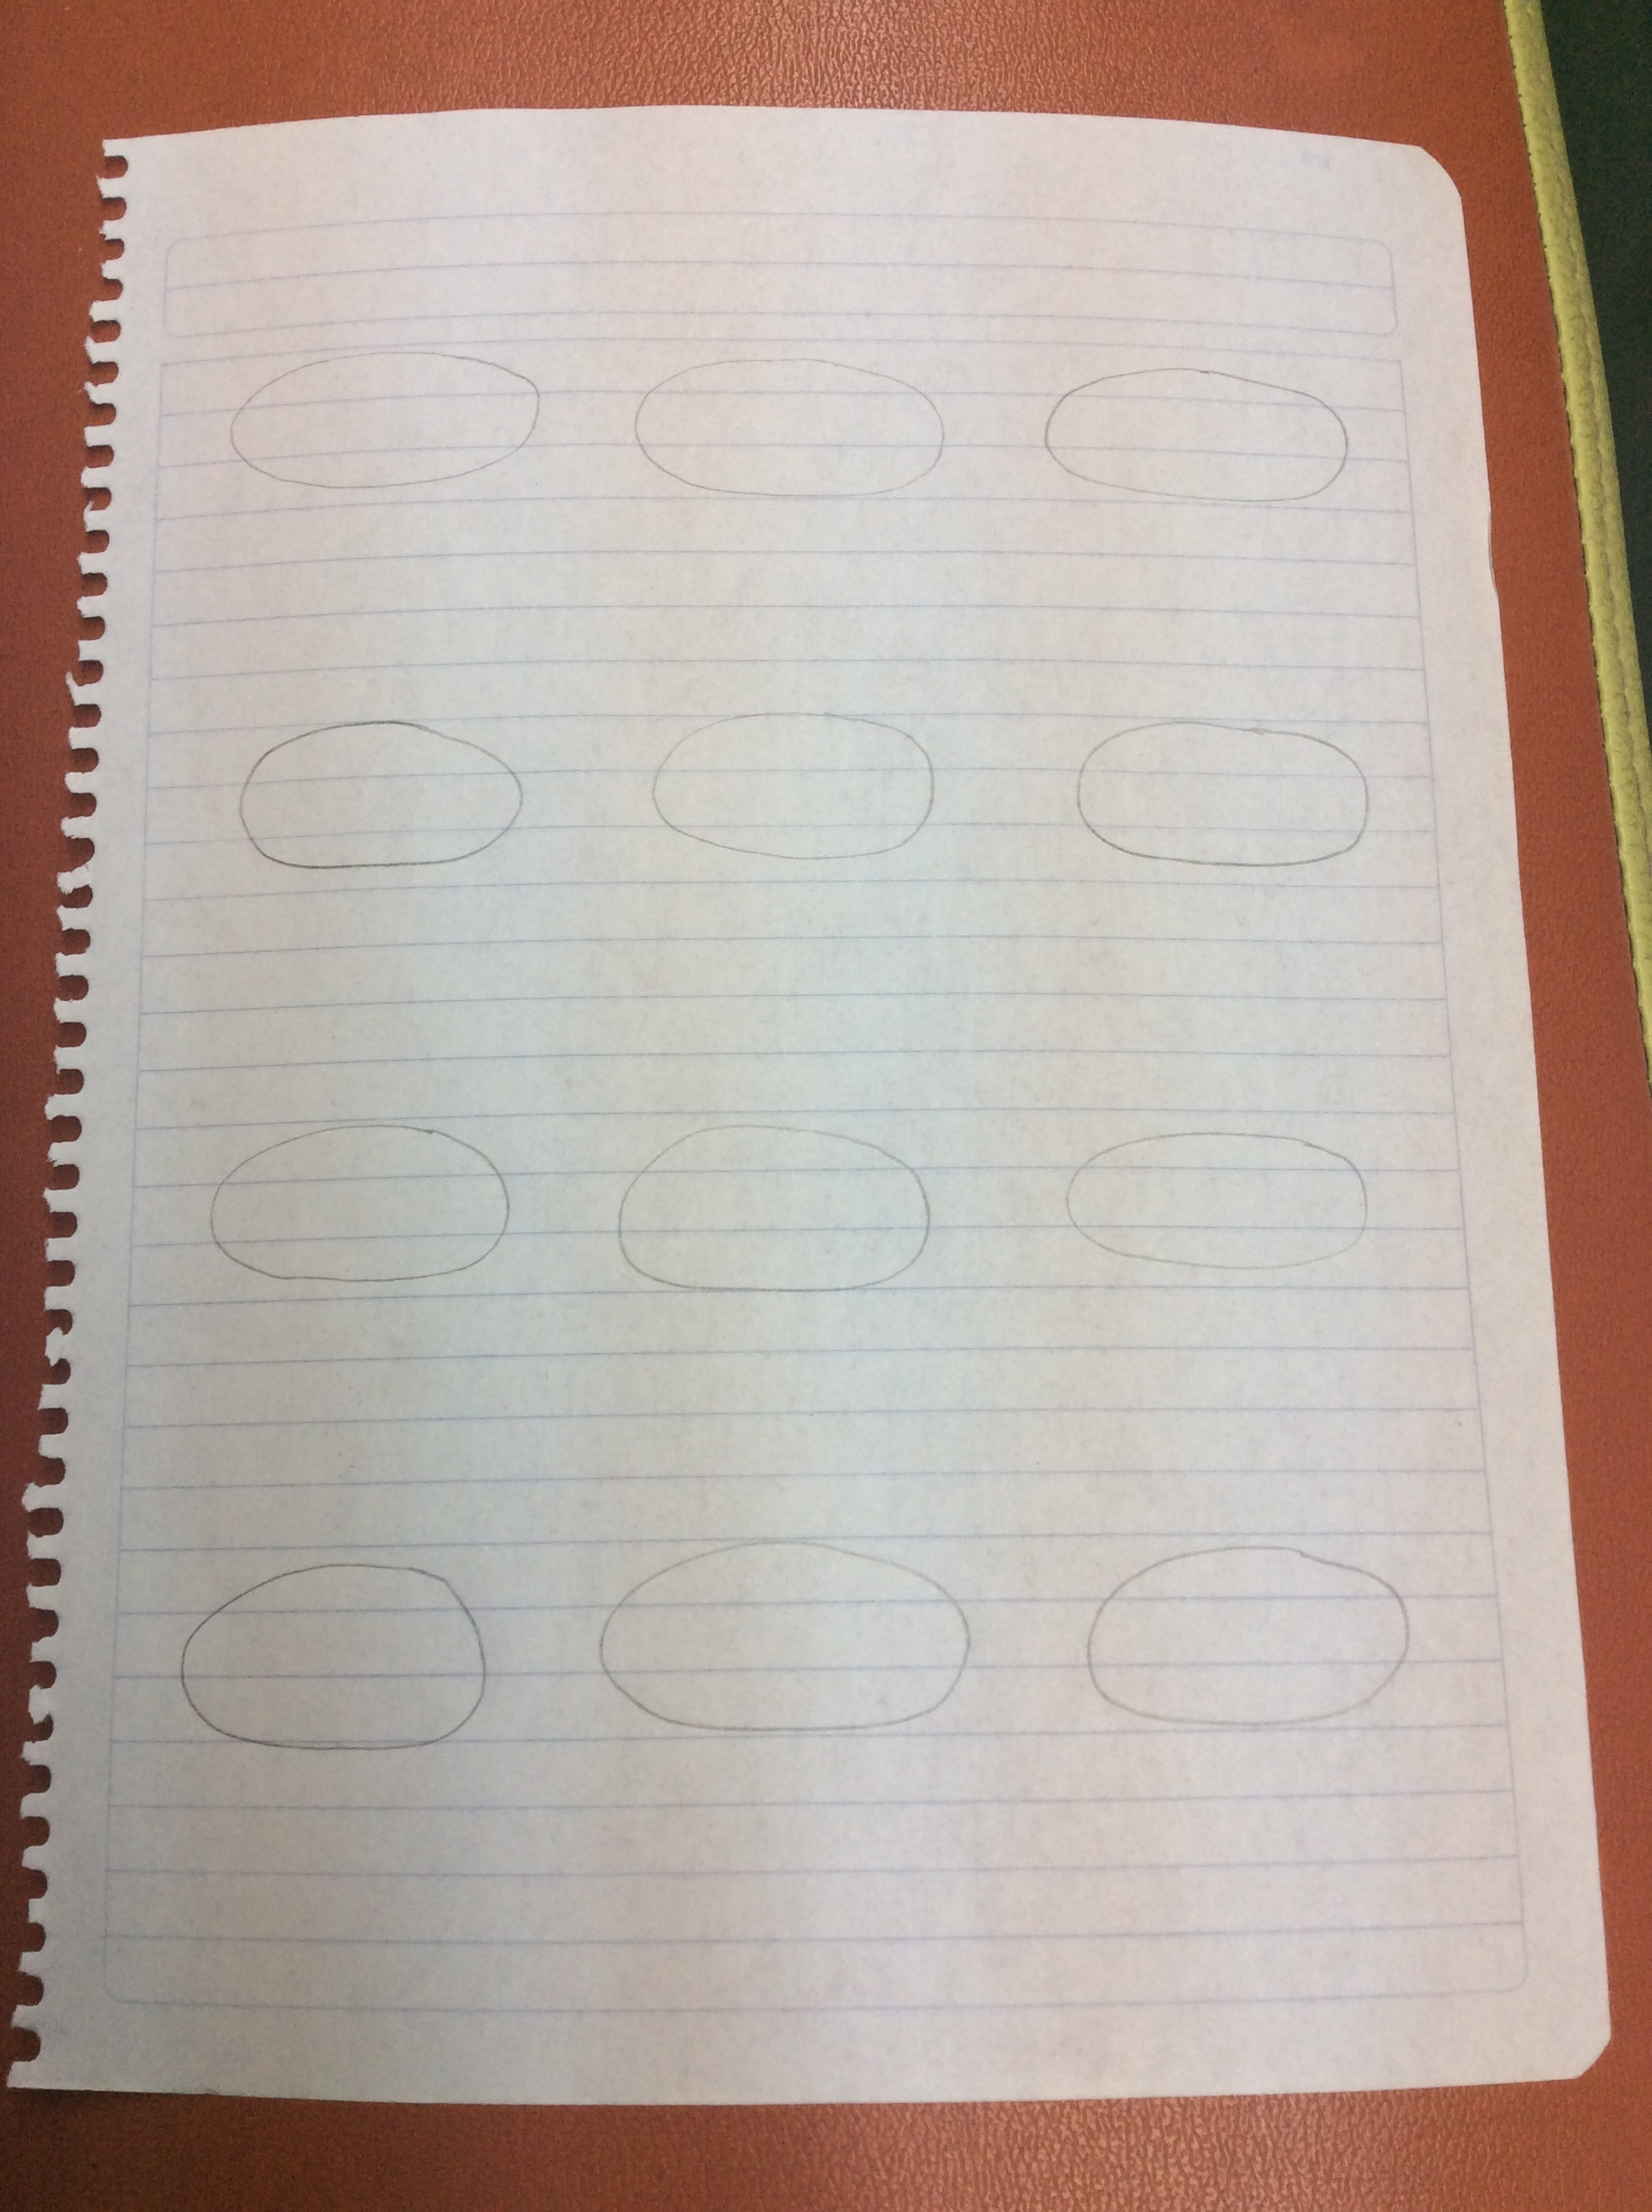start_end: (566, 1499, 994, 1761), (1050, 1527, 1449, 1757), (135, 1546, 507, 1792), (585, 1090, 951, 1327), (1032, 684, 1400, 900), (1043, 1093, 1404, 1312), (172, 1100, 531, 1317), (189, 684, 552, 892), (623, 684, 961, 888), (609, 328, 965, 522), (1032, 342, 1381, 536), (196, 324, 559, 508)
